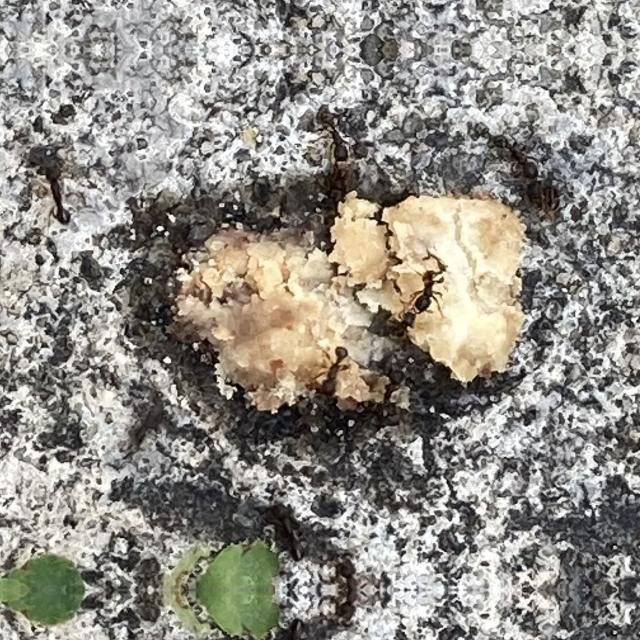Tetramorium: (291, 326, 354, 406), (397, 246, 449, 340), (306, 96, 364, 170), (36, 156, 84, 234), (484, 125, 546, 181)
